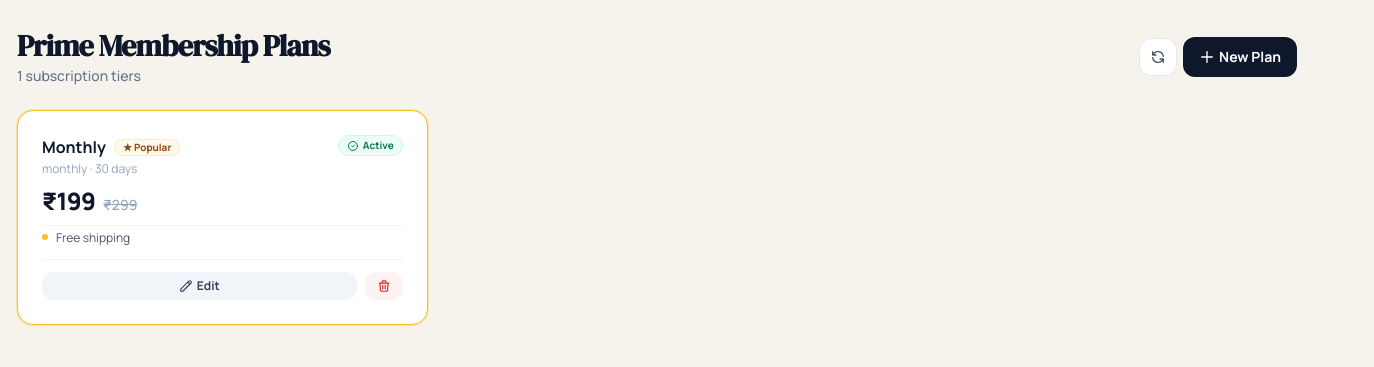
it: AdminMembership Component › deletes a plan after confirmation
Expected: the heading "Monthly" is shown, [42,135,106,159]
What coordinates should you click on to do the following:
click the 4th button
I would click on:
 (384, 286)
Its box is [365,272,403,300].
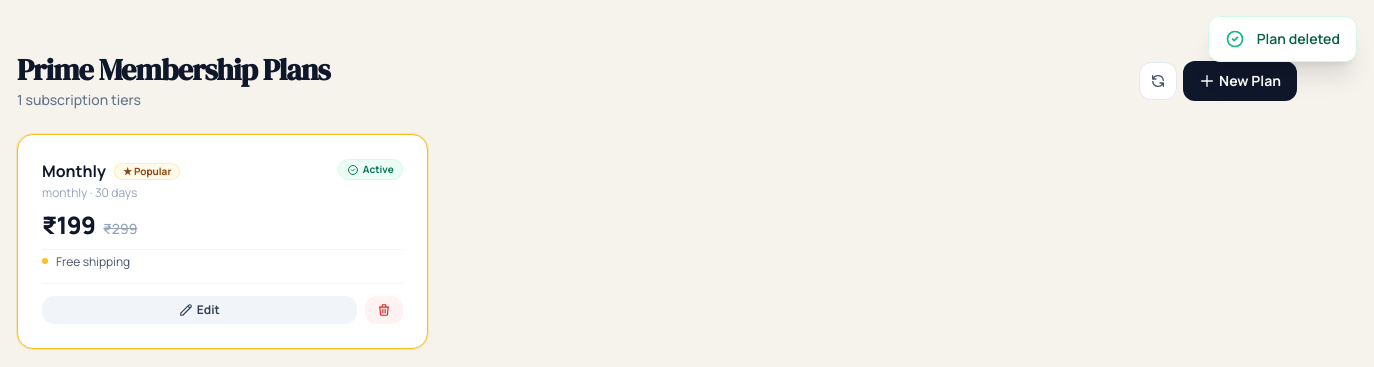
Expected: the text "Plan deleted" is shown, [1257,29,1340,49]
